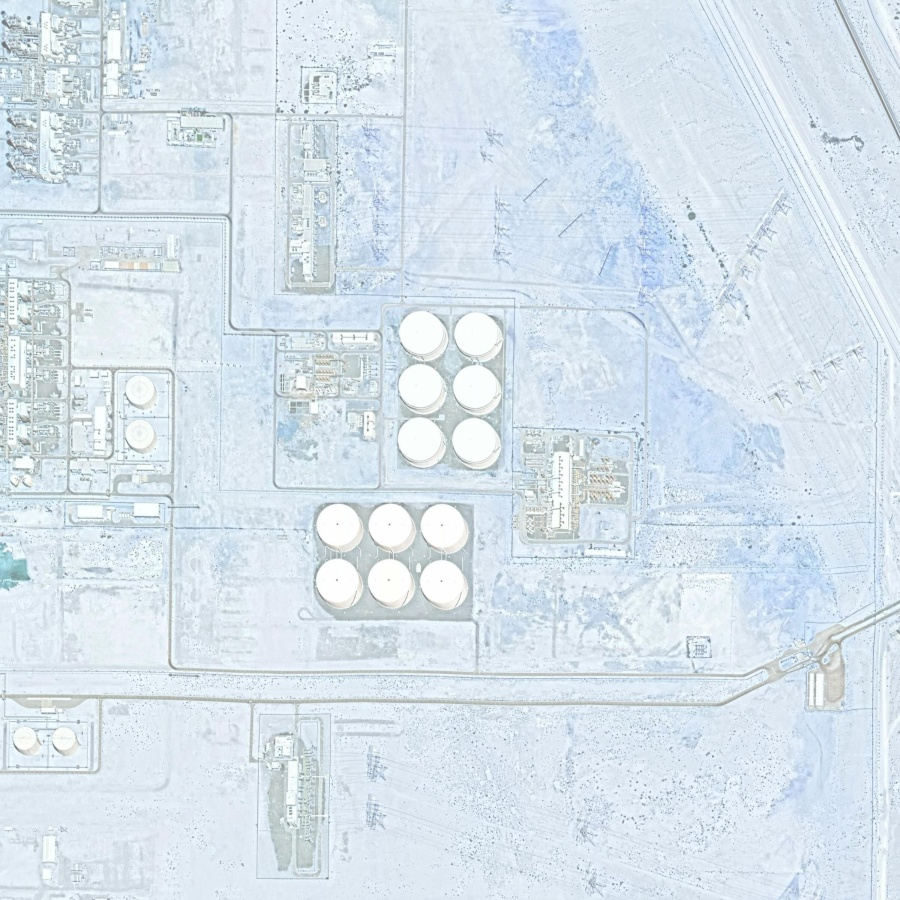PowerPlant: (253, 278, 633, 636)
